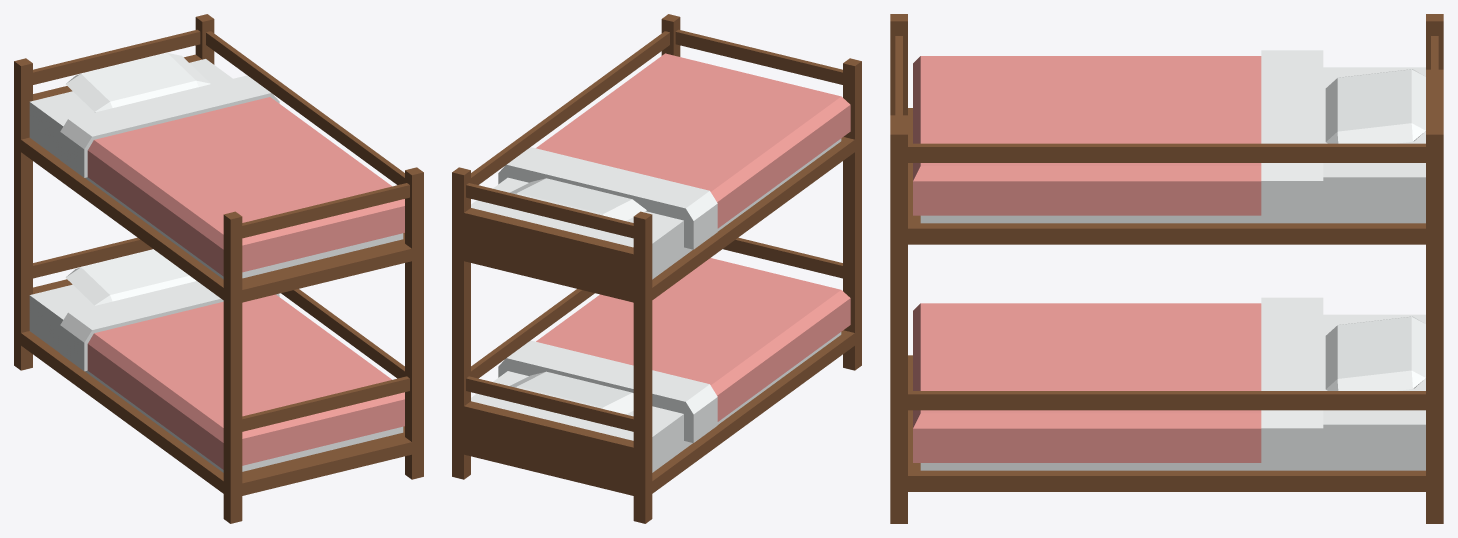
Rendered from m_bunk_bed.glb.
The picture shows the model from 3 angles, left to right: view 1: azimuth 30°, elevation 25°; view 2: azimuth 150°, elevation 25°; view 3: azimuth 270°, elevation 25°; orthographic projection. The views are drawn at different scales.
Visible parts, largest first — view 1: Mesh bedBunk, coverTop, coverBottom, pillowTop, pillowBottom; view 2: Mesh bedBunk, coverTop, coverBottom, pillowTop, pillowBottom; view 3: Mesh bedBunk, coverTop, coverBottom, pillowTop, pillowBottom.
Boxes of the visible parts, left/top/right/bottom form: Mesh bedBunk: left=14, top=14, right=423, bottom=523; coverTop: left=60, top=75, right=404, bottom=276; coverBottom: left=60, top=281, right=404, bottom=469; pillowTop: left=65, top=53, right=210, bottom=112; pillowBottom: left=65, top=249, right=196, bottom=305; Mesh bedBunk: left=452, top=14, right=861, bottom=523; coverTop: left=498, top=53, right=850, bottom=249; coverBottom: left=498, top=258, right=850, bottom=442; pillowTop: left=510, top=178, right=646, bottom=220; pillowBottom: left=509, top=371, right=633, bottom=414; Mesh bedBunk: left=890, top=14, right=1443, bottom=523; coverTop: left=913, top=50, right=1323, bottom=217; coverBottom: left=913, top=297, right=1323, bottom=464; pillowTop: left=1325, top=69, right=1425, bottom=143; pillowBottom: left=1325, top=316, right=1425, bottom=390.
Bounding box in the file's own units: 1.14 × 1.7 × 2.19.
